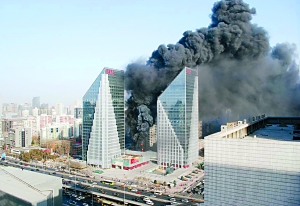smoke: (202, 1, 295, 114)
